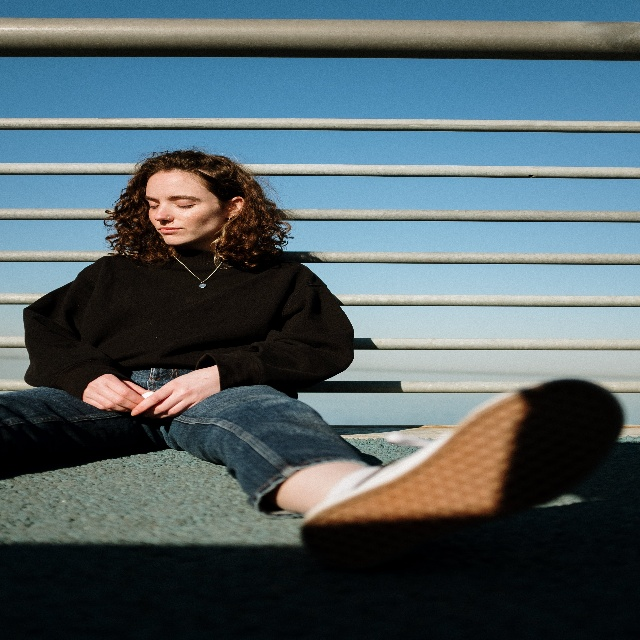Sin_guantes: (131, 368, 210, 419), (82, 373, 152, 413)
